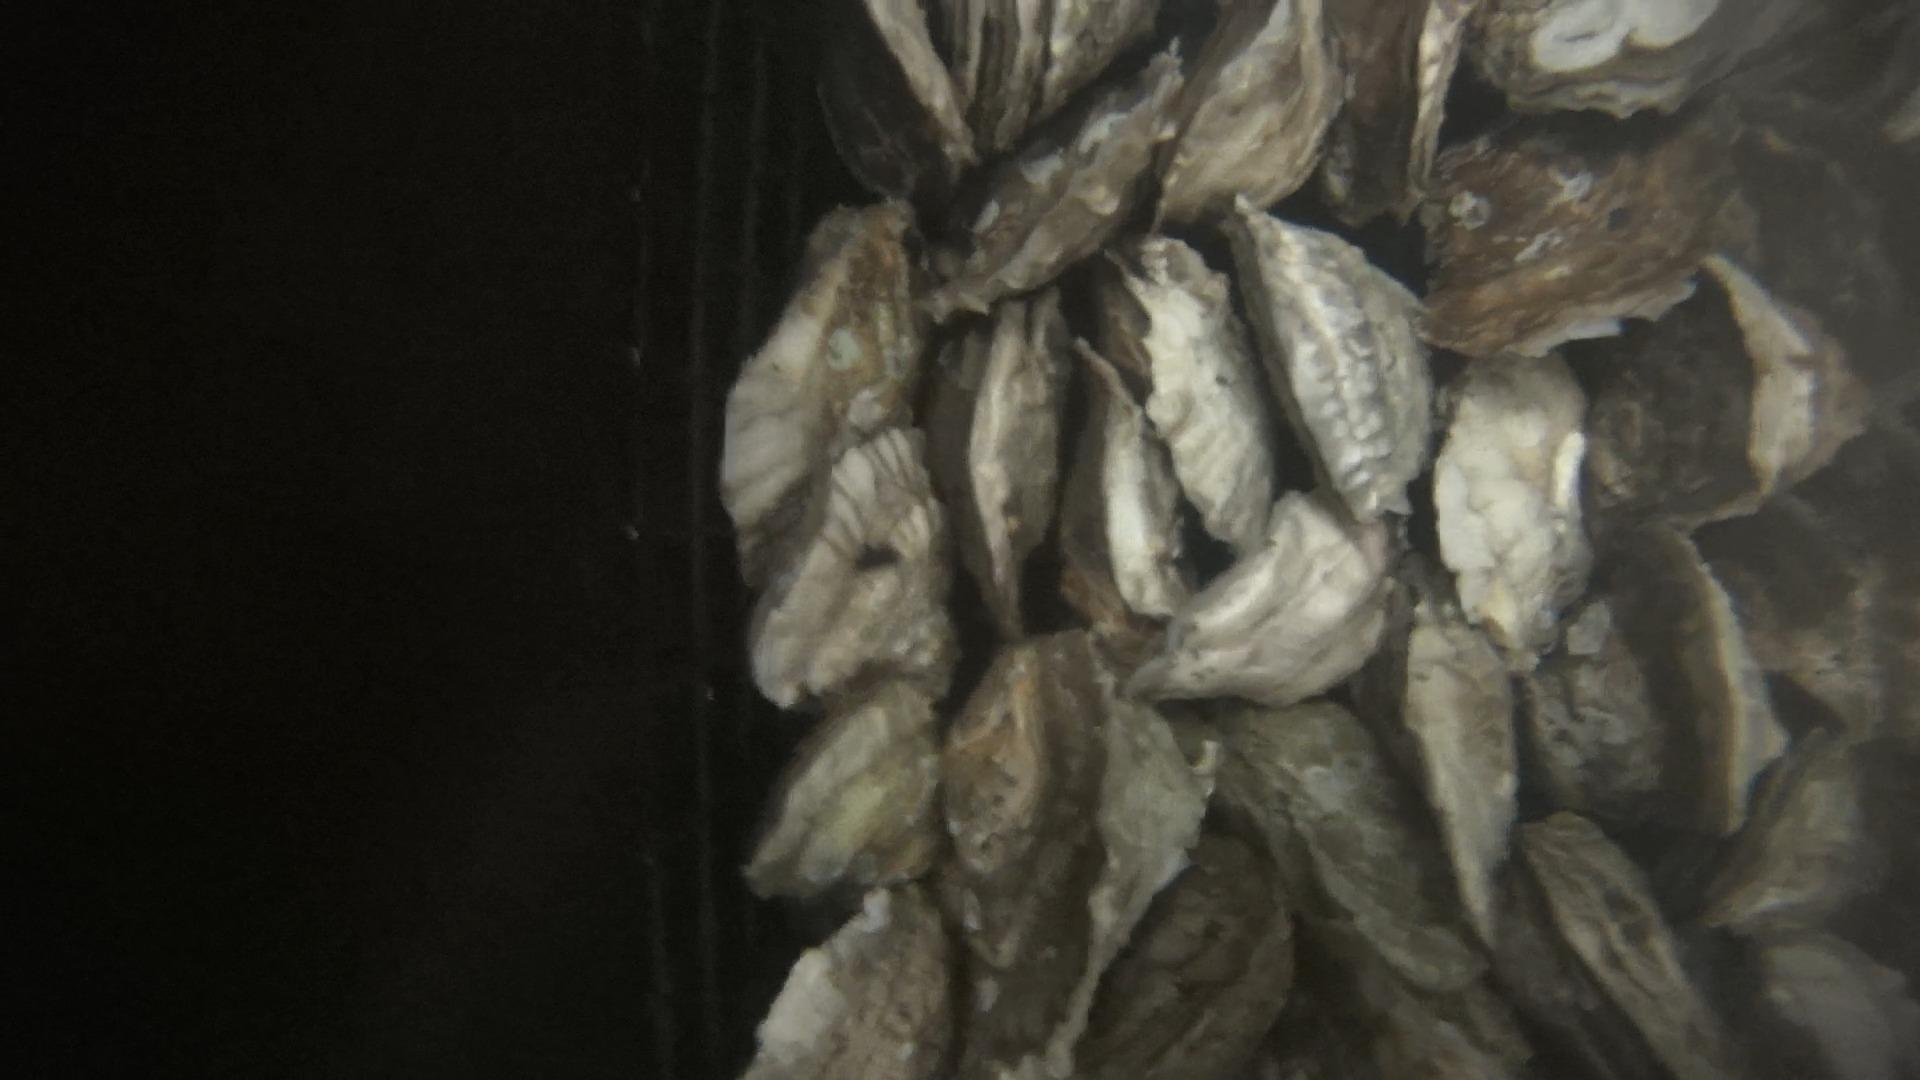3: (938, 629, 1215, 1077), (1422, 94, 1743, 355), (1218, 702, 1487, 993), (1590, 253, 1870, 530), (1506, 812, 1731, 1080), (1097, 235, 1275, 550), (1077, 833, 1296, 1080), (1436, 352, 1596, 671), (1249, 916, 1535, 1080), (1062, 339, 1189, 667), (1323, 0, 1477, 223), (940, 0, 1156, 153), (818, 0, 978, 195)
Oyster- Indeterminate: (721, 200, 922, 567), (744, 884, 952, 1080), (1526, 597, 1667, 818)
Oyster-Closed: (930, 44, 1184, 319), (1225, 194, 1435, 521), (1354, 556, 1520, 944), (1129, 491, 1393, 705), (750, 427, 953, 705), (1613, 522, 1792, 835), (927, 286, 1069, 637), (745, 680, 940, 897), (1156, 0, 1344, 220)
